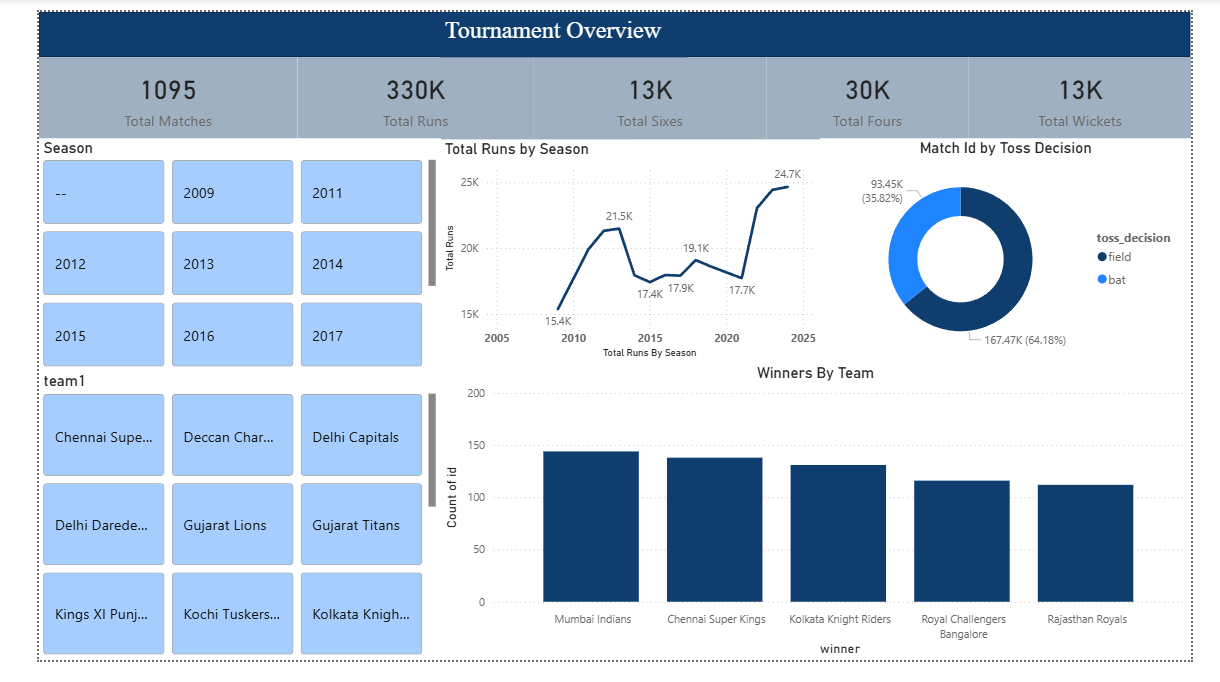

This screenshot's page, from the dashboard's own definition file:
{"tool":"powerbi","page":{"name":"Overview","canvas":[1280,720],"ordinal":0},"visuals":[{"type":"card","fields":{"Values":["matches_cleaned.Total Matches"]},"box":[0,50,287.5,91.7],"z":0},{"type":"card","fields":{"Values":["deliveries_cleaned.Total Runs"]},"box":[287.5,50,262.5,91.7],"z":1000},{"type":"card","fields":{"Values":["deliveries_cleaned.Total Sixes"]},"box":[550,50,258.3,91.7],"z":2000},{"type":"card","fields":{"Values":["deliveries_cleaned.Total Fours"]},"box":[808.3,50,225,91.7],"z":3000},{"type":"card","fields":{"Values":["deliveries_cleaned.Total Wickets"]},"box":[1033.3,50,247.2,91.7],"z":4000},{"type":"lineChart","title":"Total Runs by Season","fields":{"Category":["matches_cleaned.season"],"Y":["deliveries_cleaned.Total Runs"]},"box":[445.8,141.7,422.2,248.6],"z":5000},{"type":"columnChart","title":"Winners By Team","fields":{"Category":["matches_cleaned.winner"],"Y":["CountNonNull(matches_cleaned.id)"]},"box":[446,390,834,330],"z":6000},{"type":"donutChart","title":"Match Id by Toss Decision","fields":{"Category":["matches_cleaned.toss_decision"],"Y":["CountNonNull(deliveries_cleaned.match_id)"]},"box":[868,140,412,250],"z":7000},{"type":"advancedSlicerVisual","fields":{"Values":["matches_cleaned.season"]},"box":[0,140,446,260],"z":8000},{"type":"advancedSlicerVisual","fields":{"Values":["matches_cleaned.team1"]},"box":[0,400,446,320],"z":9000},{"type":"shape","box":[0,0,1279.2,50],"z":10000},{"type":"textbox","box":[445.8,0,273.6,50],"z":11000}]}

Visuals, with their boxes in screenshot pixels (x1, y1, x2, y2), scaled from the page's 1280x720 canvas onto the 1220x682 screenshot:
card - matches_cleaned.Total Matches: [x1=0, y1=47, x2=274, y2=134]
card - deliveries_cleaned.Total Runs: [x1=274, y1=47, x2=524, y2=134]
card - deliveries_cleaned.Total Sixes: [x1=524, y1=47, x2=770, y2=134]
card - deliveries_cleaned.Total Fours: [x1=770, y1=47, x2=985, y2=134]
card - deliveries_cleaned.Total Wickets: [x1=985, y1=47, x2=1219, y2=134]
"Total Runs by Season" lineChart: [x1=425, y1=134, x2=827, y2=370]
"Winners By Team" columnChart: [x1=425, y1=369, x2=1219, y2=681]
"Match Id by Toss Decision" donutChart: [x1=827, y1=133, x2=1219, y2=369]
advancedSlicerVisual - matches_cleaned.season: [x1=0, y1=133, x2=425, y2=379]
advancedSlicerVisual - matches_cleaned.team1: [x1=0, y1=379, x2=425, y2=681]
shape: [x1=0, y1=0, x2=1219, y2=47]
textbox: [x1=425, y1=0, x2=686, y2=47]
